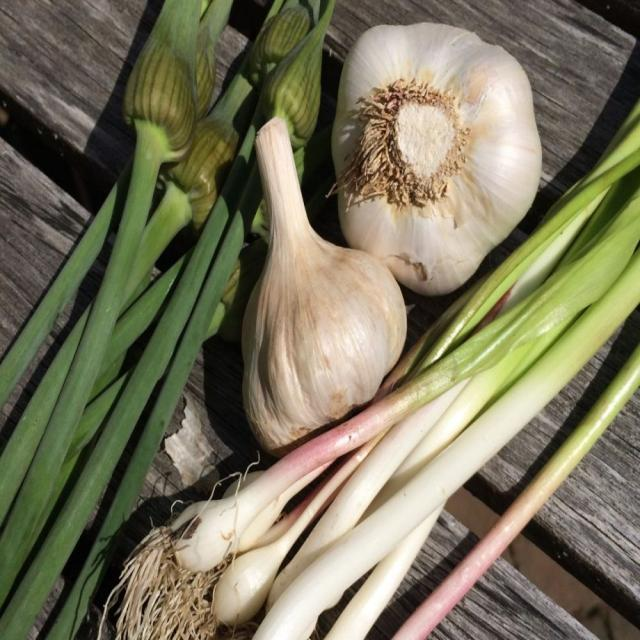garlic: (332, 22, 540, 294), (241, 117, 405, 450)
